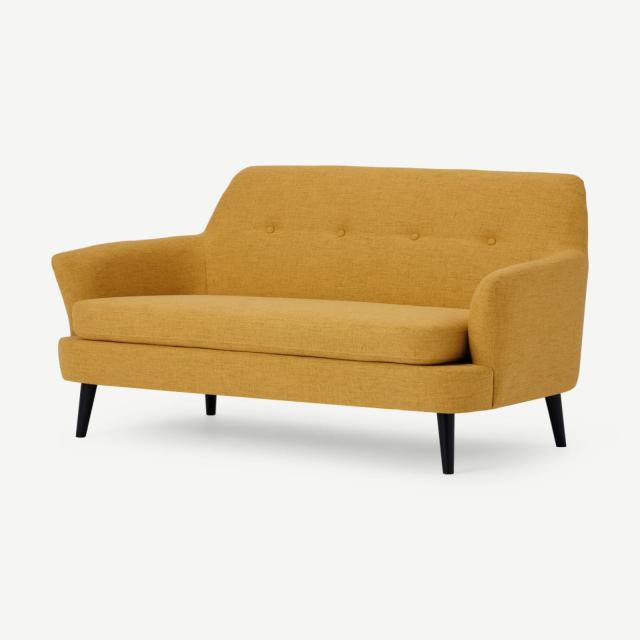Soffa: (54, 159, 597, 480)
